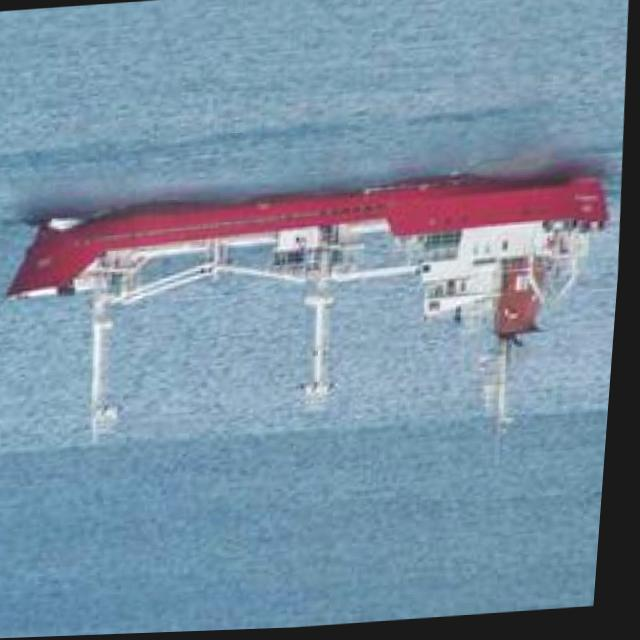ship2: (9, 175, 613, 439)
